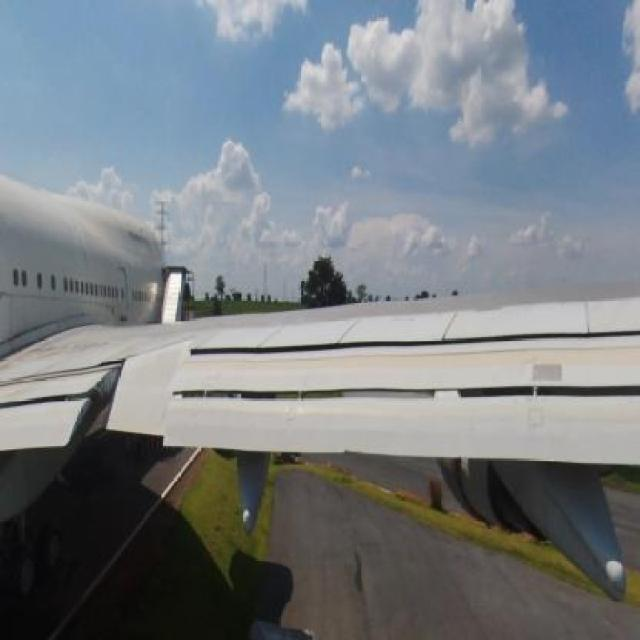Scartch: (34, 338, 118, 360)
